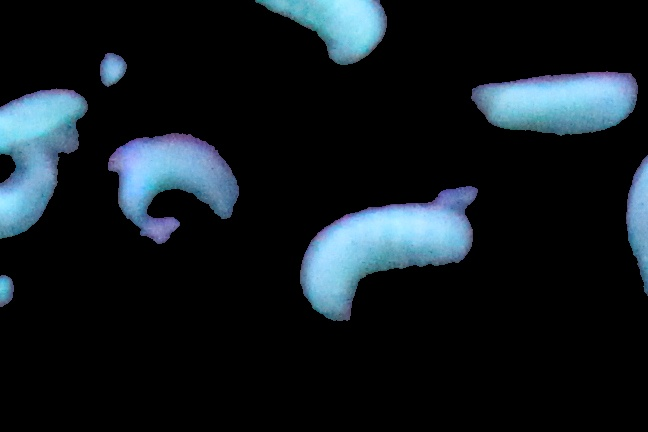larvae: (293, 216, 470, 322), (120, 133, 247, 231), (241, 1, 400, 69), (470, 81, 645, 135), (1, 91, 85, 149), (1, 143, 49, 241)
